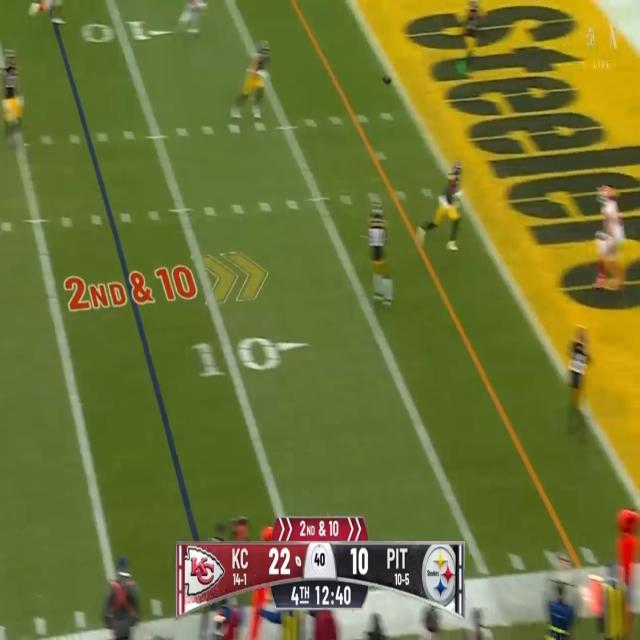Ball: (382, 74, 393, 86)
